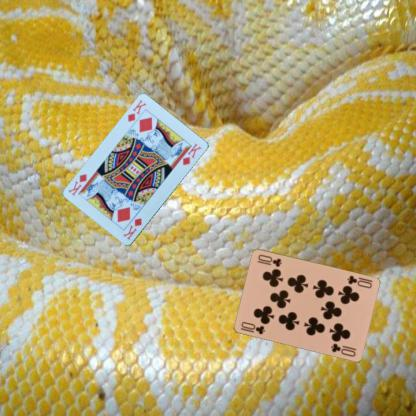10c: (344, 272, 374, 290), (238, 319, 266, 336)
Kd: (120, 215, 143, 241), (125, 97, 148, 123)
